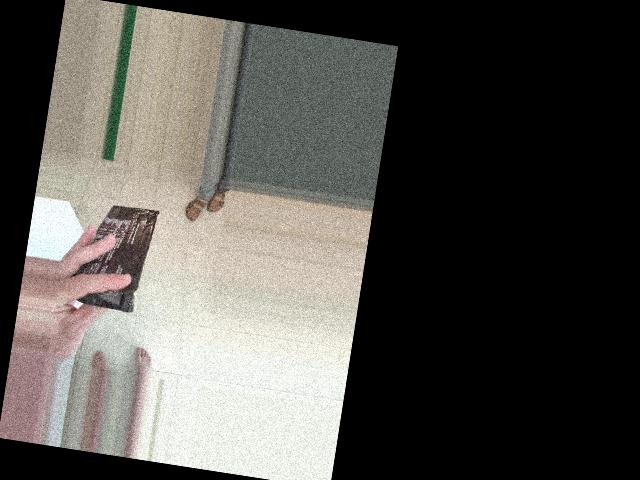chocolate: (88, 223, 220, 319)
